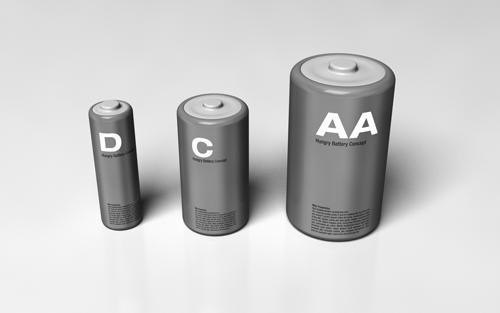Battery: (88, 97, 150, 230)
